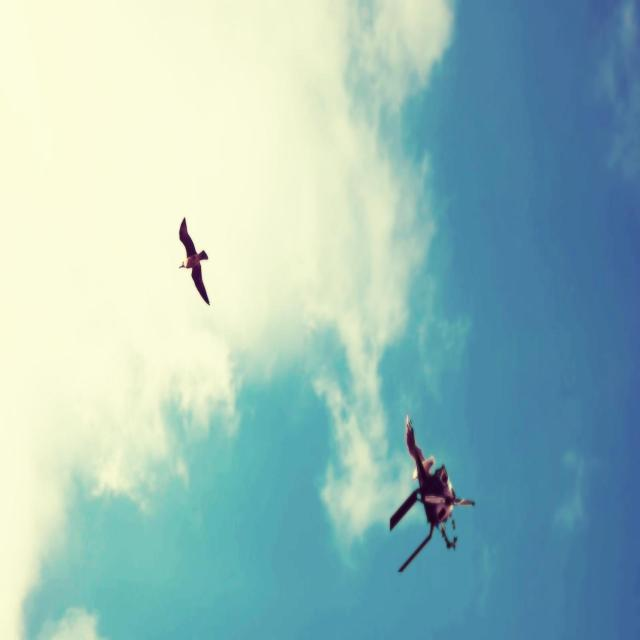airplane: (389, 412, 475, 573)
